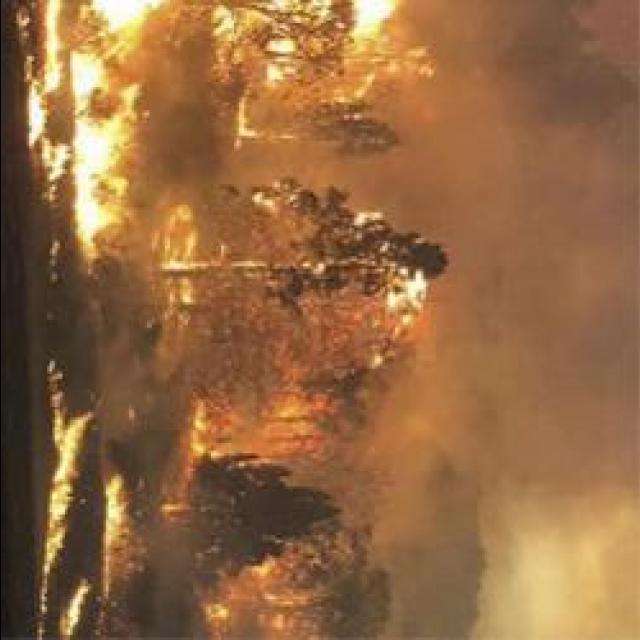fire: (70, 124, 122, 172), (42, 1, 63, 90), (92, 0, 166, 23), (54, 432, 78, 480), (68, 56, 99, 88), (353, 0, 405, 19), (76, 200, 106, 232), (24, 98, 44, 138), (106, 482, 122, 525), (49, 490, 67, 524)
smoke: (484, 198, 631, 374), (490, 1, 636, 137), (464, 401, 640, 504), (555, 535, 640, 640), (380, 398, 462, 458)
